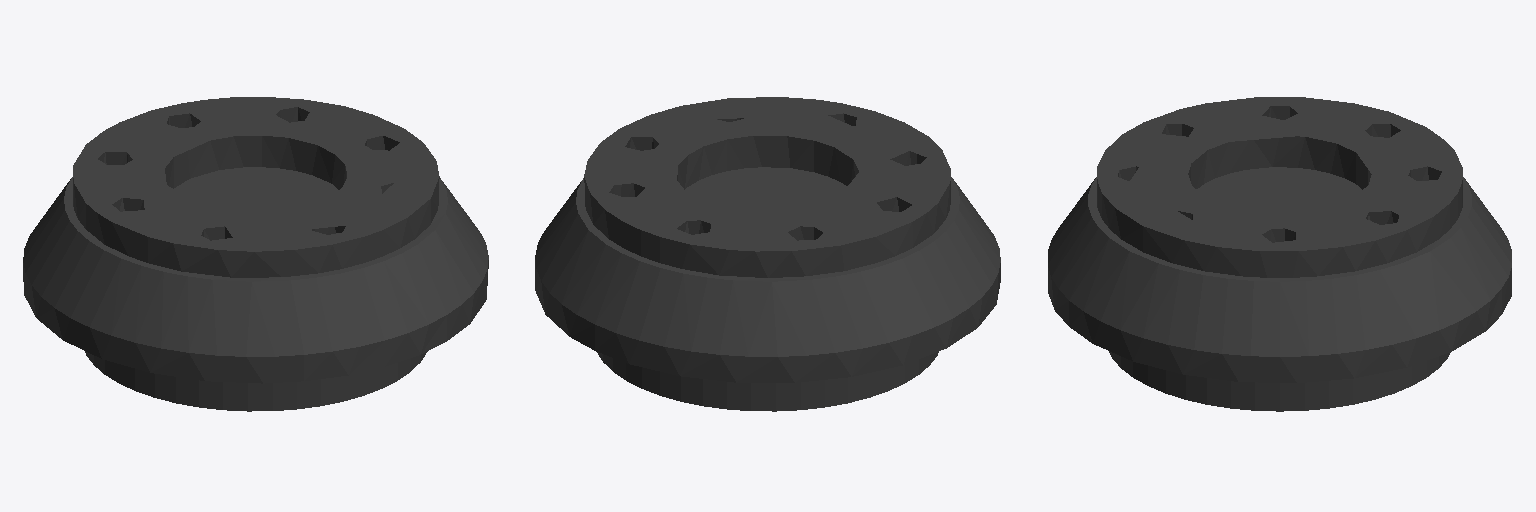
The picture shows the model from 3 angles: view 1: azimuth 30°, elevation 25°; view 2: azimuth 150°, elevation 25°; view 3: azimuth 270°, elevation 25°; orthographic projection.
Visible parts, largest first — view 1: link7_object.008; view 2: link7_object.008; view 3: link7_object.008.
Boxes of the visible parts, x1=… form: link7_object.008: x1=23, y1=97, x2=488, y2=411; link7_object.008: x1=535, y1=97, x2=1000, y2=411; link7_object.008: x1=1048, y1=97, x2=1511, y2=411.
Bounding box in the file's own units: 0.08 × 0.031 × 0.0798.